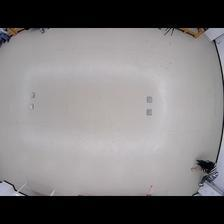fall: (190, 158, 218, 188)
